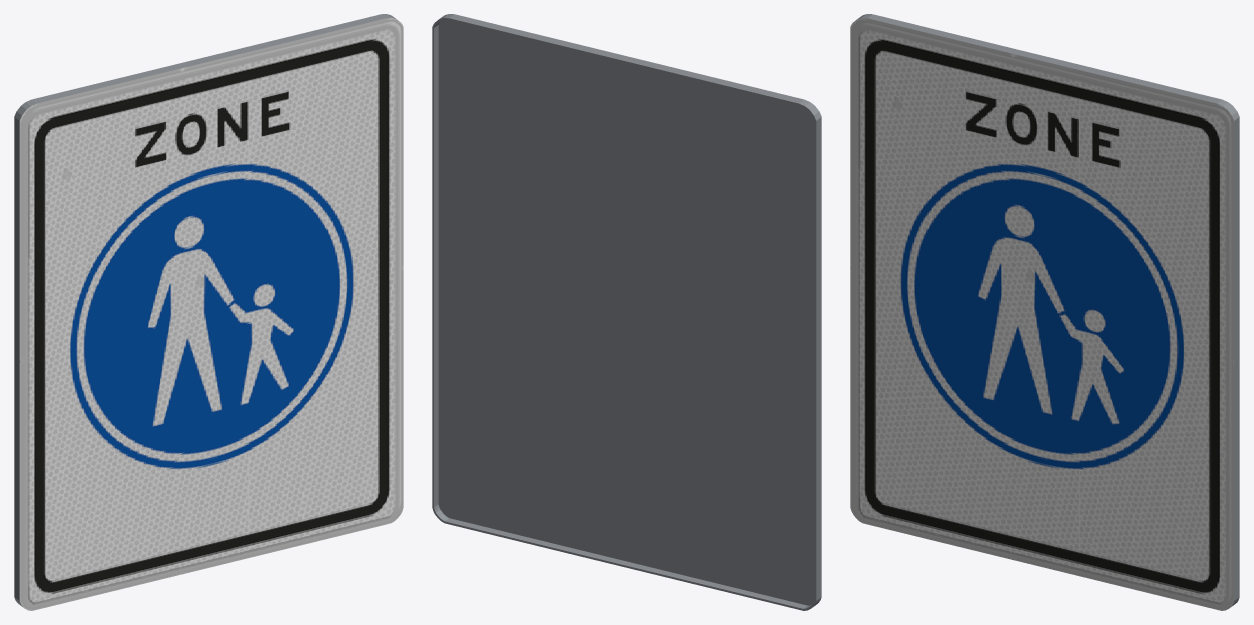
The picture shows the model from 3 angles, left to right: view 1: azimuth 30°, elevation 25°; view 2: azimuth 150°, elevation 25°; view 3: azimuth 330°, elevation 25°; orthographic projection.
Visible parts, largest first — view 1: cat_73407b3e7902c8b8; view 2: cat_73407b3e7902c8b8; view 3: cat_73407b3e7902c8b8.
Boxes of the visible parts, <box> form: cat_73407b3e7902c8b8: <box>14,14,403,610</box>; cat_73407b3e7902c8b8: <box>432,14,821,610</box>; cat_73407b3e7902c8b8: <box>850,14,1239,610</box>.
Size of the model in its own units: 0.6 by 0.015 by 0.7558.
Materials: 2 (1 with a texture image).
